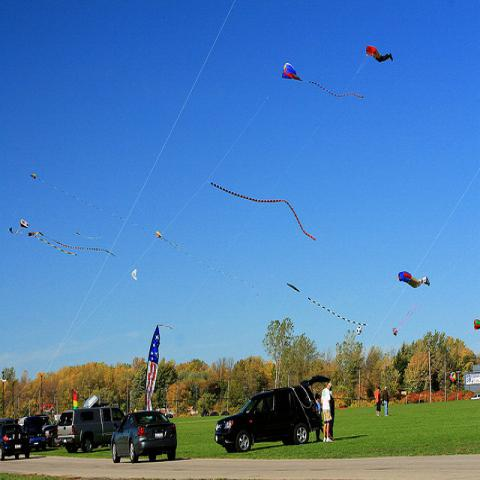car: (214, 374, 329, 452), (112, 412, 178, 466), (57, 406, 126, 455), (0, 422, 30, 462), (24, 415, 46, 452), (42, 424, 61, 448), (34, 414, 54, 430)
